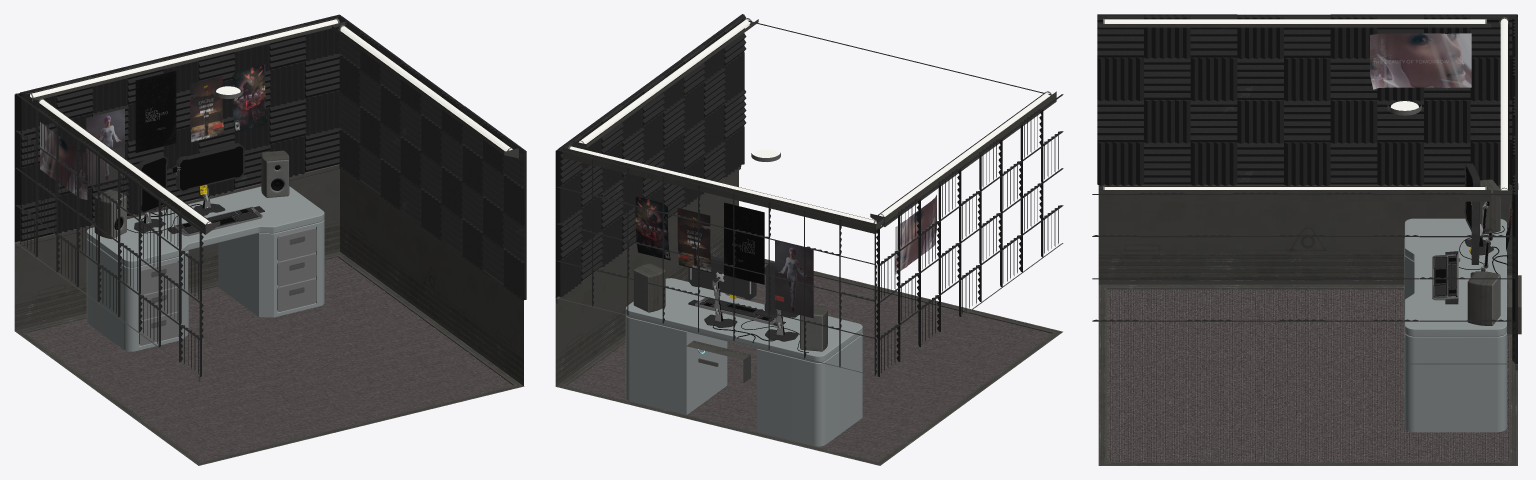
File: sci-fi_computer_room-transformed.glb
3 renders of one model, left to right at view 1: azimuth 30°, elevation 25°; view 2: azimuth 150°, elevation 25°; view 3: azimuth 270°, elevation 25°, orthographic. The views are drawn at different scales.
Parts seen in each view (by area): view 1: Object_10, Object_7, Object_12, Object_2, Object_3, Object_8, Object_13, Object_6, Object_4; view 2: Object_10, Object_12, Object_7, Object_2, Object_3, Object_8, Object_13, Object_4, Object_6; view 3: Object_10, Object_7, Object_12, Object_2, Object_3, Object_8, Object_13, Object_4.
Part boxes in pixels (x1=…): Object_10: x1=15, y1=14, x2=526, y2=377; Object_7: x1=26, y1=257, x2=512, y2=461; Object_12: x1=14, y1=17, x2=524, y2=465; Object_2: x1=86, y1=186, x2=324, y2=351; Object_3: x1=40, y1=64, x2=267, y2=199; Object_8: x1=30, y1=19, x2=512, y2=224; Object_13: x1=134, y1=143, x2=244, y2=232; Object_6: x1=14, y1=15, x2=341, y2=241; Object_4: x1=168, y1=206, x2=264, y2=236; Object_10: x1=557, y1=14, x2=1063, y2=376; Object_12: x1=555, y1=18, x2=1063, y2=465; Object_7: x1=567, y1=263, x2=1051, y2=461; Object_2: x1=625, y1=278, x2=862, y2=446; Object_3: x1=635, y1=195, x2=936, y2=318; Object_8: x1=570, y1=19, x2=1050, y2=223; Object_13: x1=688, y1=256, x2=798, y2=341; Object_4: x1=688, y1=297, x2=785, y2=325; Object_6: x1=555, y1=149, x2=808, y2=352; Object_10: x1=1092, y1=14, x2=1517, y2=363; Object_7: x1=1107, y1=289, x2=1509, y2=462; Object_12: x1=1098, y1=16, x2=1521, y2=465; Object_2: x1=1404, y1=218, x2=1506, y2=432; Object_3: x1=1370, y1=33, x2=1512, y2=251; Object_8: x1=1104, y1=18, x2=1507, y2=190; Object_13: x1=1464, y1=163, x2=1493, y2=277; Object_4: x1=1432, y1=251, x2=1460, y2=304.
Bounding box in the file's own units: 2.98 × 2.1 × 2.98.
11 materials, 7 textured.
